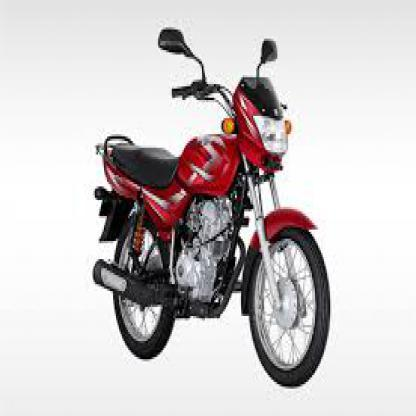Motorcycle: (82, 18, 336, 392)
